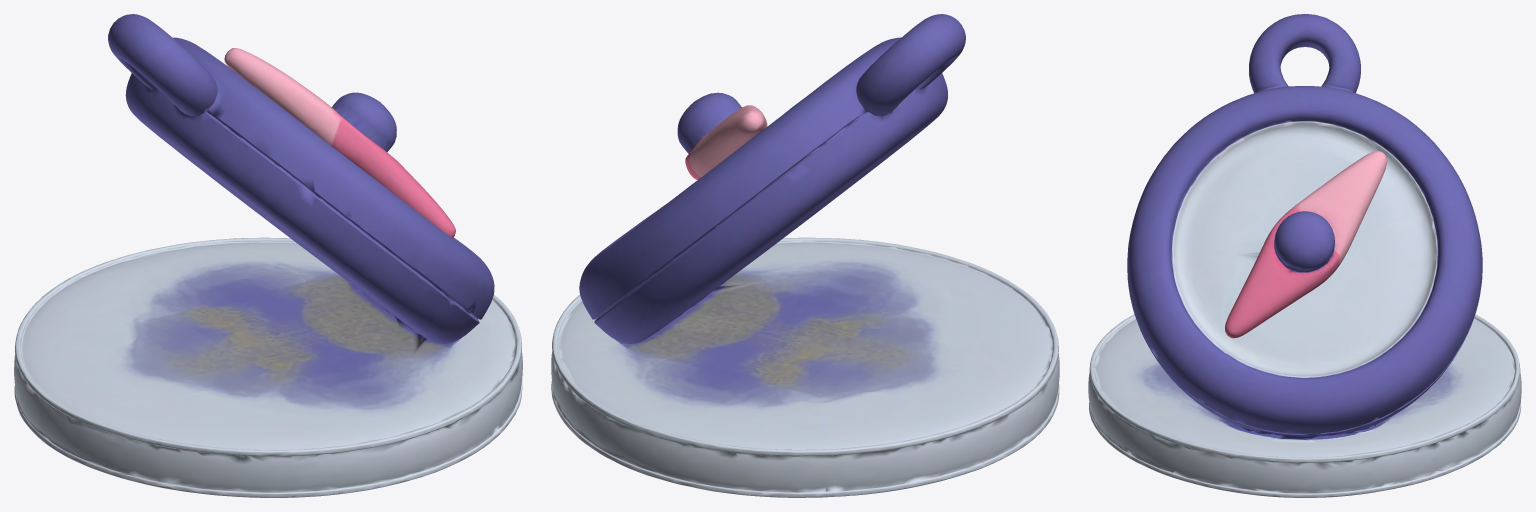
Rendered from bussola.glb.
3 views of the same model, side by side, from view 1: azimuth 30°, elevation 25°; view 2: azimuth 150°, elevation 25°; view 3: azimuth 270°, elevation 25° (orthographic). The views are drawn at different scales.
Visible parts, largest first — view 1: tripo_node_bfd82a83-c639-4c15-b8a7-e08eb63bb3ab; view 2: tripo_node_bfd82a83-c639-4c15-b8a7-e08eb63bb3ab; view 3: tripo_node_bfd82a83-c639-4c15-b8a7-e08eb63bb3ab.
Boxes of the visible parts, <box> form: tripo_node_bfd82a83-c639-4c15-b8a7-e08eb63bb3ab: <box>14,14,522,497</box>; tripo_node_bfd82a83-c639-4c15-b8a7-e08eb63bb3ab: <box>551,14,1059,497</box>; tripo_node_bfd82a83-c639-4c15-b8a7-e08eb63bb3ab: <box>1088,14,1521,497</box>.
Bounding box in the file's own units: 0.9784 × 0.8496 × 0.9795.
Materials: 1 (1 with a texture image).
